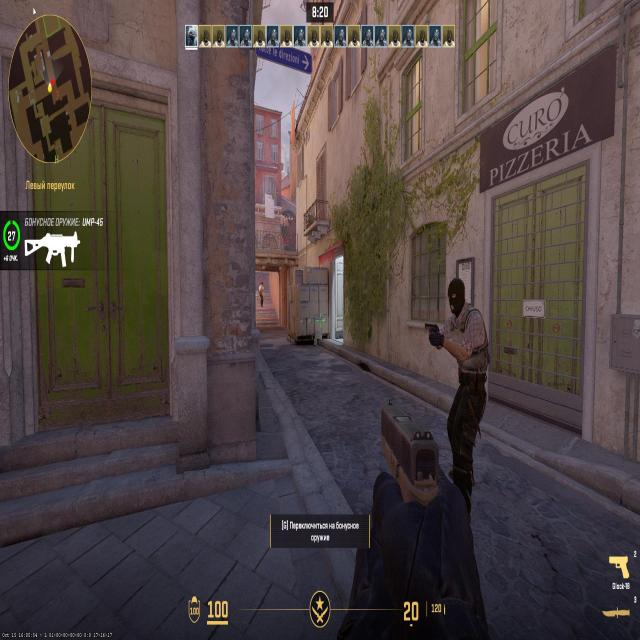T: (447, 289, 479, 461), (258, 281, 264, 310)
T_heat: (456, 291, 468, 312), (259, 283, 263, 290)
